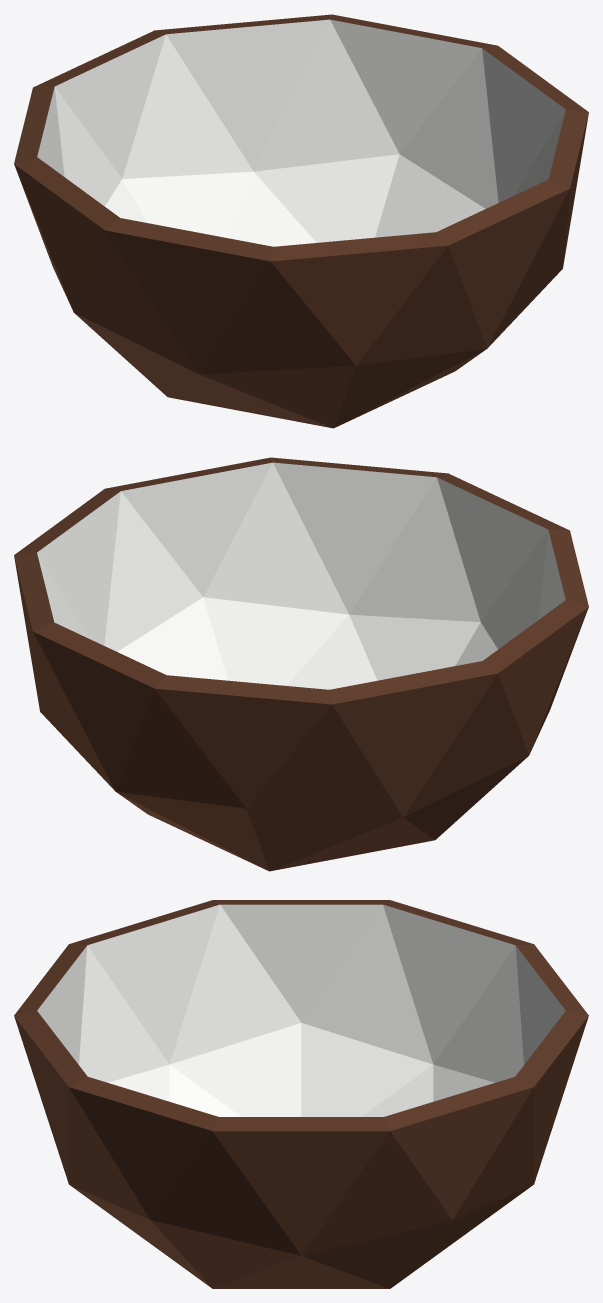
File: Brokonut.fbx
3 views of the same model, one above another, from view 1: azimuth 30°, elevation 25°; view 2: azimuth 150°, elevation 25°; view 3: azimuth 270°, elevation 25° (orthographic). The views are drawn at different scales.
Visible parts, largest first — view 1: Brokonut; view 2: Brokonut; view 3: Brokonut.
Boxes of the visible parts, left/top/right/bottom form: Brokonut: left=14, top=14, right=588, bottom=428; Brokonut: left=14, top=457, right=588, bottom=871; Brokonut: left=14, top=900, right=588, bottom=1288.
Size of the model in its own units: 190 by 102 by 200.
